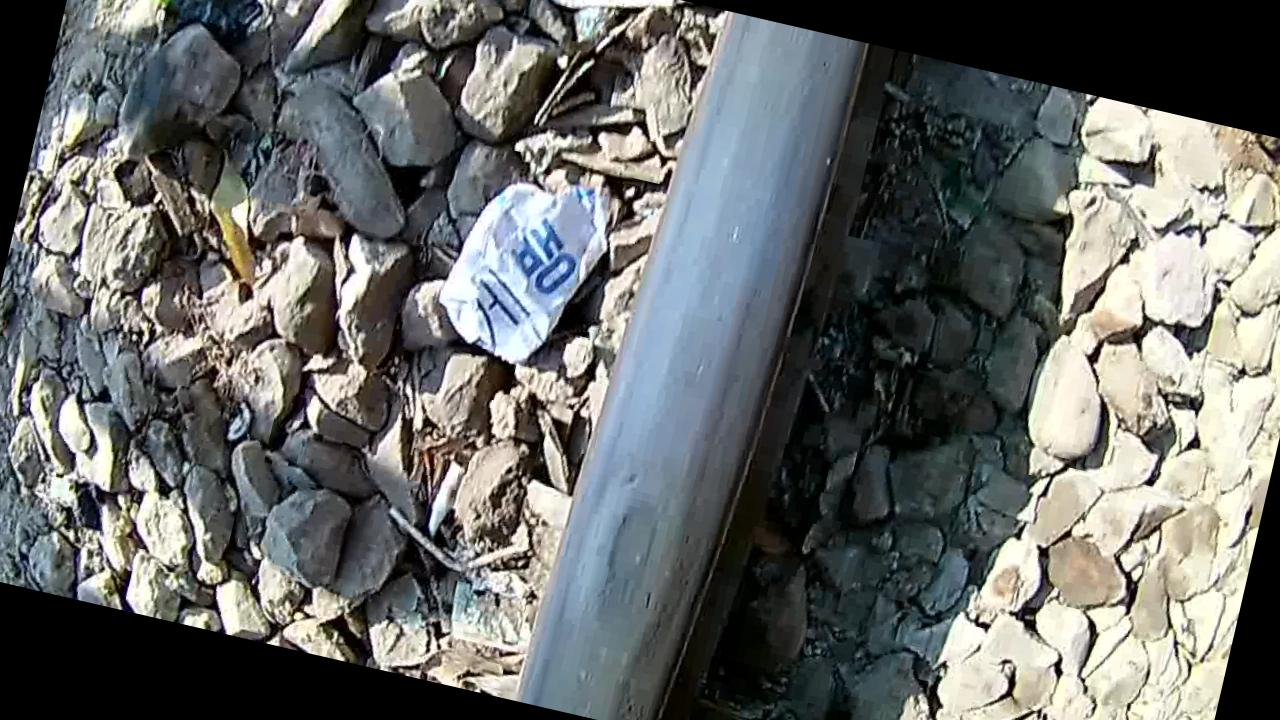bolt_missing: (528, 418, 748, 707)
